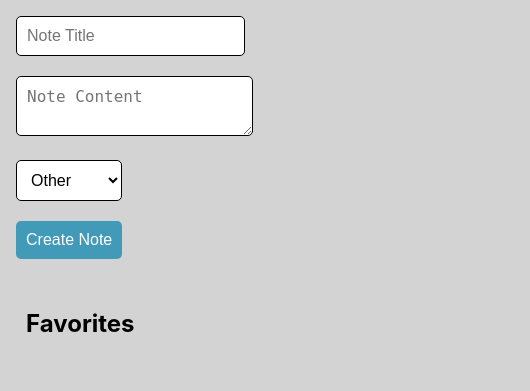
StickyNotes Component › marks a note as favorite and displays it in favorites
Note: Create a note
Type "Favorite Note" into the field with placeholder "Note Title". click: (130, 36)
box: [16, 16, 245, 56]
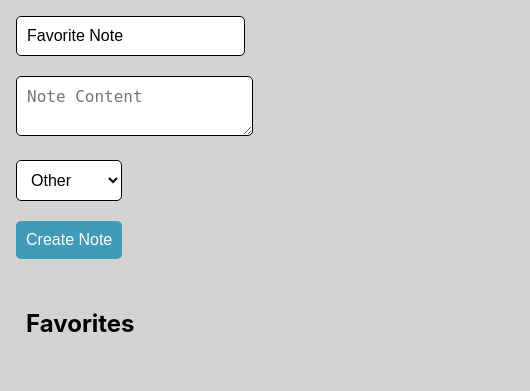
Type "Favorite Content" into the text box with placeholder "Note Content". click: (134, 106)
box: [16, 76, 253, 136]
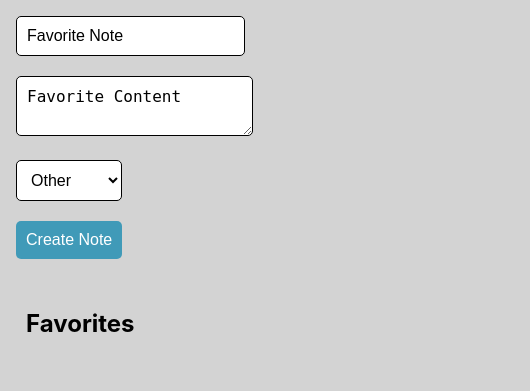
Click the button "Create Note". click: (69, 240)
box: [16, 221, 122, 259]
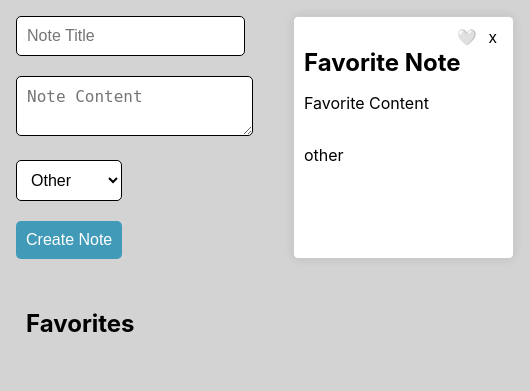
Note: Mark as favorite
Click the button with test id "favorite-button-1". click: (467, 38)
box: [451, 27, 483, 48]
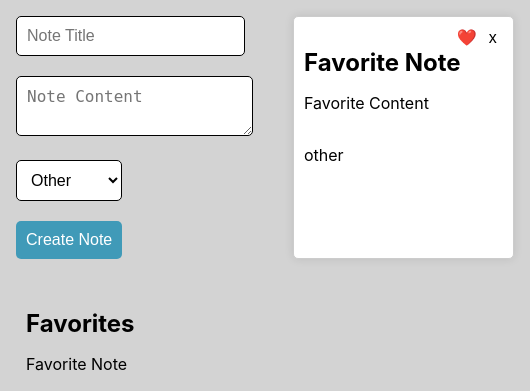
Check: the list item with test id "favorite-note-1" reads "Favorite Note", box [26, 354, 127, 374]
